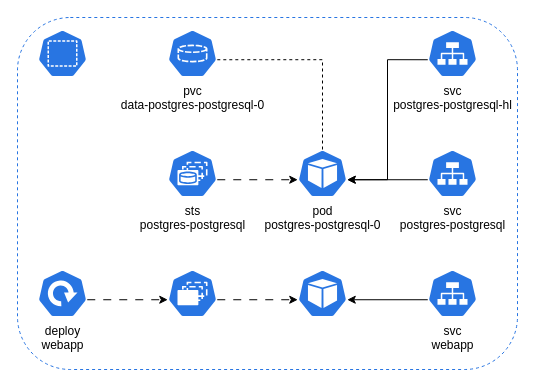
The diagram is 535 pixels wide and 387 high, and some of its shapes have lost their labels. The centre of each missing label's shape, as x and y in pixels:
namespace default: (62,53)
pod webapp: (322,293)
rs webapp: (192,293)
